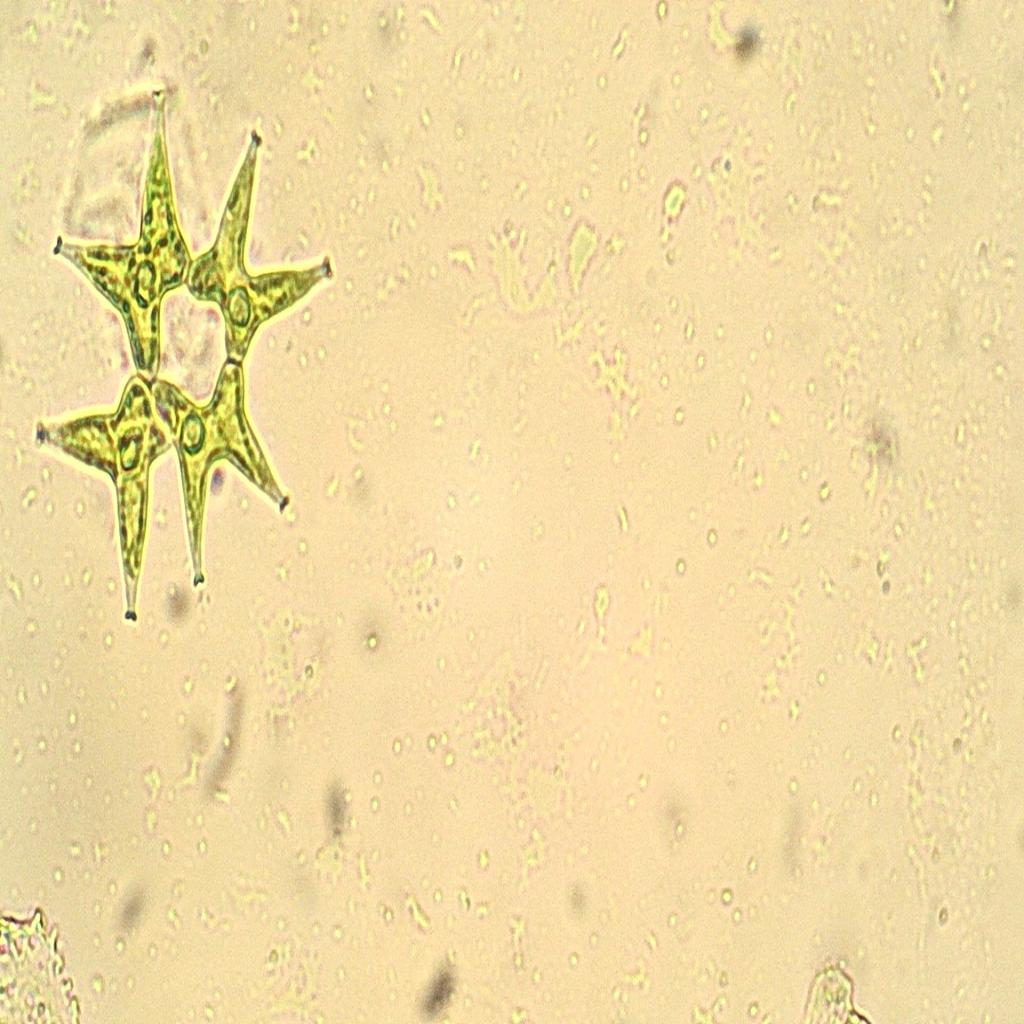Pediastrum_CT: (25, 66, 343, 638)
